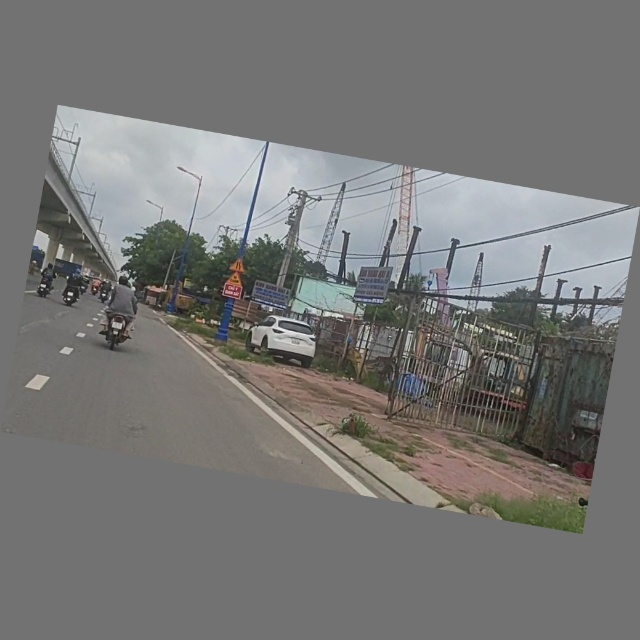W.203c: (229, 257, 246, 273)
W.245a: (225, 270, 246, 287)
